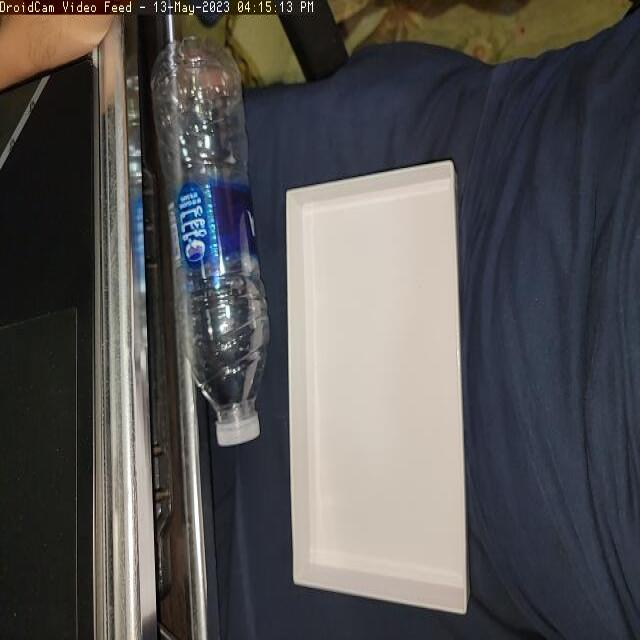Anorganik: (148, 31, 271, 452)
Organik: (283, 157, 473, 616)
